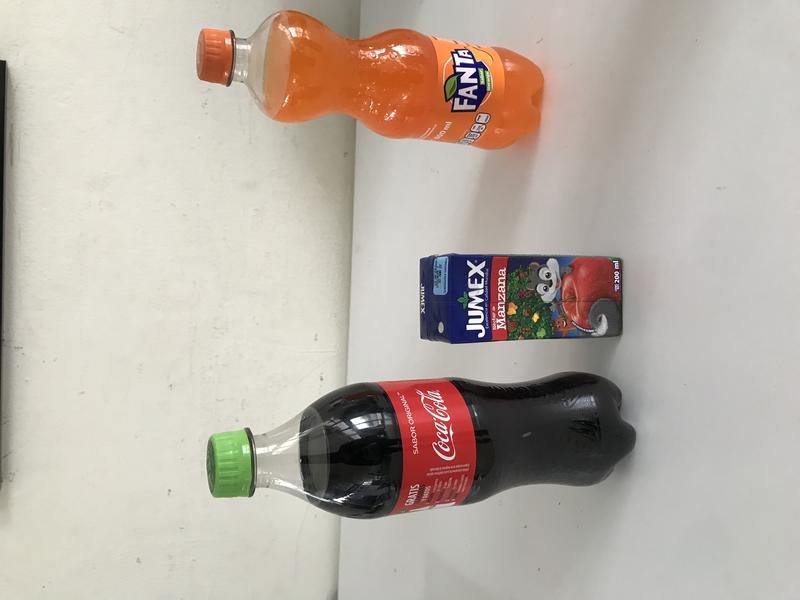coca_cola: (206, 371, 637, 519)
fanta: (197, 10, 543, 150)
jumex_cajita: (419, 255, 623, 344)
